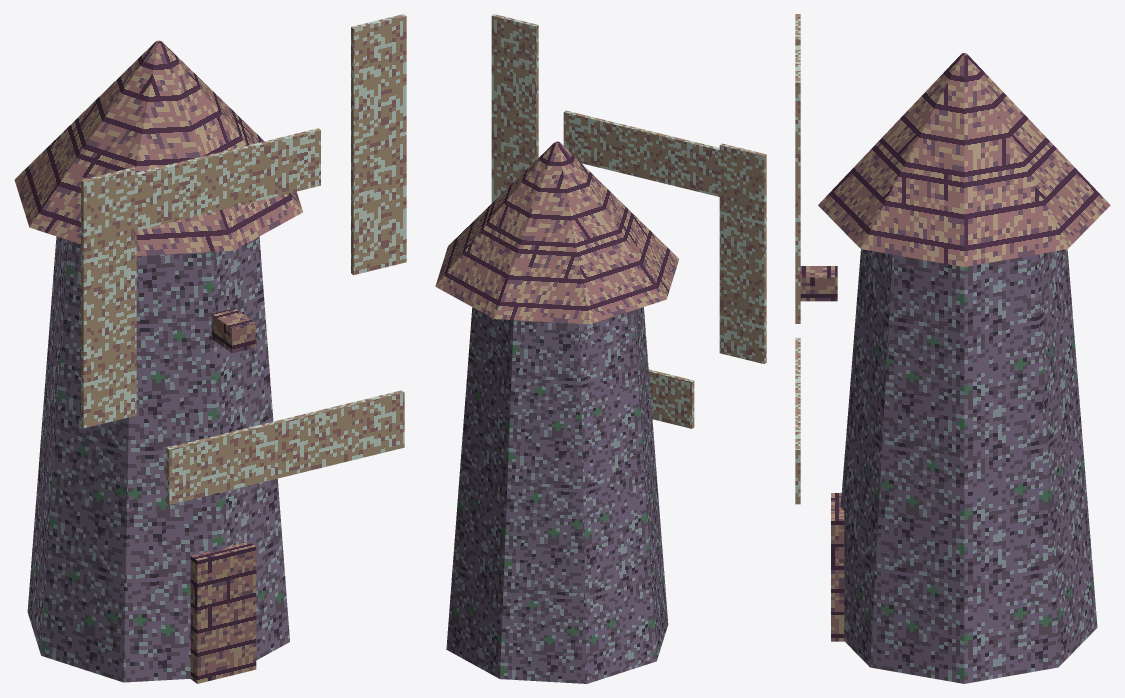
The model's file is a01_moinho.glb.
3 views of the same model, side by side, from view 1: azimuth 30°, elevation 25°; view 2: azimuth 150°, elevation 25°; view 3: azimuth 270°, elevation 25° (orthographic). The views are drawn at different scales.
Visible parts, largest first — view 1: a01_moinho; view 2: a01_moinho; view 3: a01_moinho.
Part boxes in pixels (x1=…): a01_moinho: x1=14, y1=14, x2=406, y2=683; a01_moinho: x1=435, y1=14, x2=766, y2=683; a01_moinho: x1=795, y1=14, x2=1110, y2=683.
Bounding box in the file's own units: 5.49 × 10.31 × 4.74.
3 materials, 3 textured.
